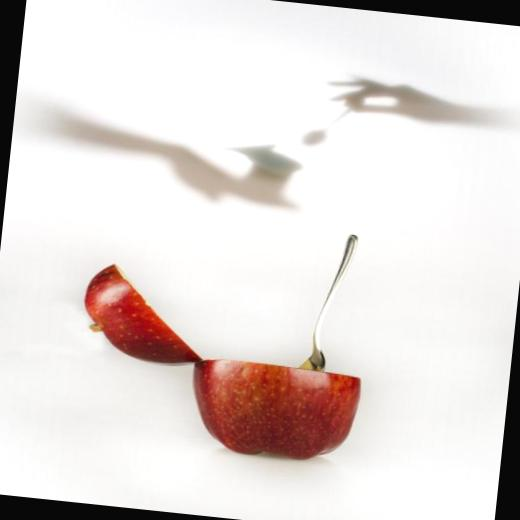Apple: (184, 349, 364, 474), (74, 258, 218, 370)
